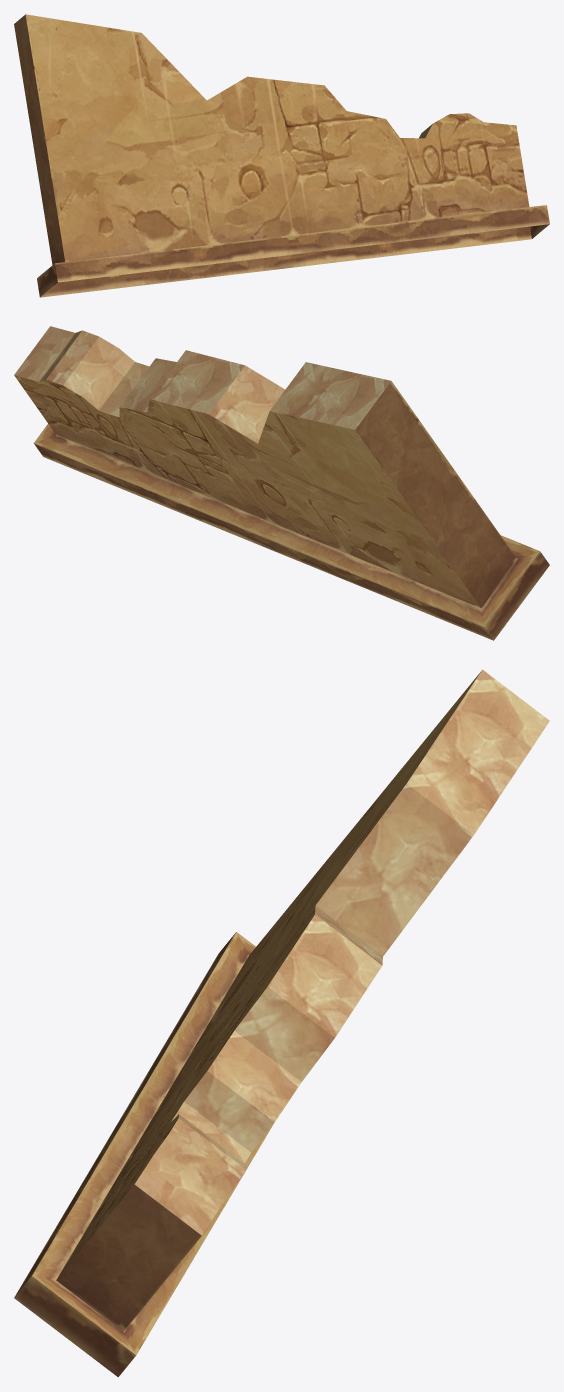
File: Area_09_33.fbx
3 renders of one model, top to bottom at view 1: azimuth 30°, elevation 25°; view 2: azimuth 150°, elevation 25°; view 3: azimuth 270°, elevation 25°, orthographic. The views are drawn at different scales.
Parts seen in each view (by area): view 1: Area_09_33; view 2: Area_09_33; view 3: Area_09_33.
Boxes of the visible parts, x1=… form: Area_09_33: x1=14, y1=14, x2=549, y2=297; Area_09_33: x1=14, y1=326, x2=549, y2=640; Area_09_33: x1=14, y1=669, x2=549, y2=1377.
Bounding box in the file's own units: 859 × 442 × 546.
